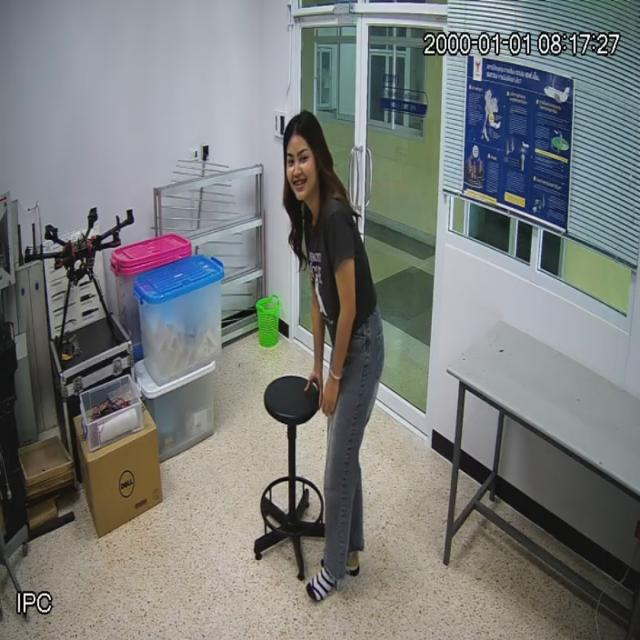normal: (273, 98, 395, 616)
